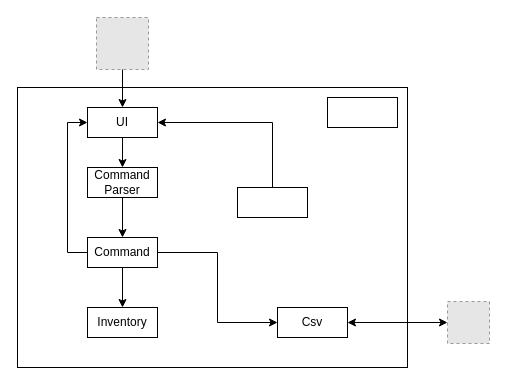
Some shapes in this 507 by 385 pixel diagram are drawn without their labels. Grey dashed boxes stand in for pictures. The shapes that lost their labels are listed below. From the top down, each one's box as (x1, y1, x2, y2) in pixels, then its label:
(326, 96, 398, 128): Exception
(236, 186, 308, 218): Inventra
